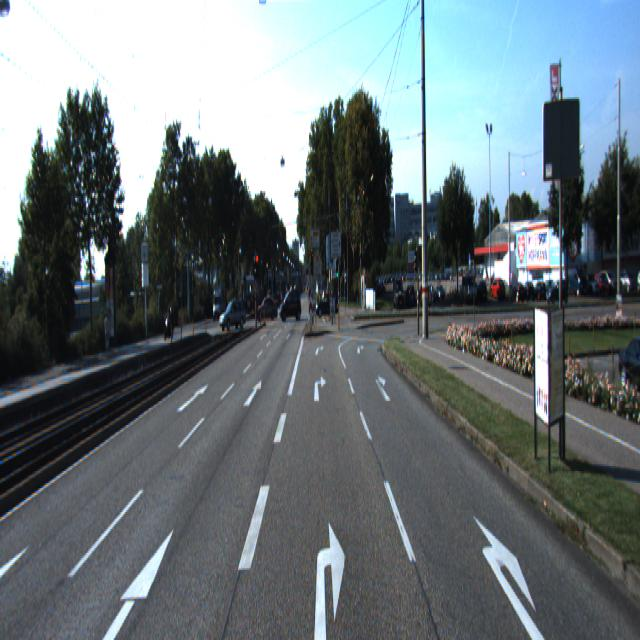Car: (218, 300, 248, 334), (164, 308, 176, 344)
